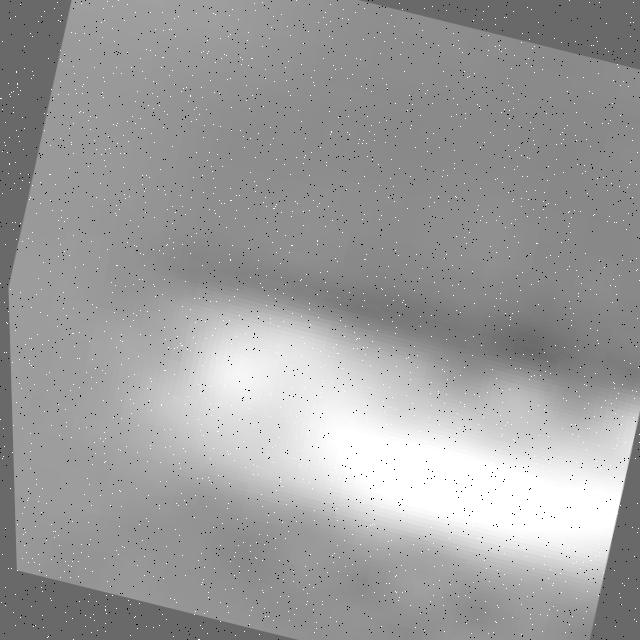person: (54, 200, 640, 597)
